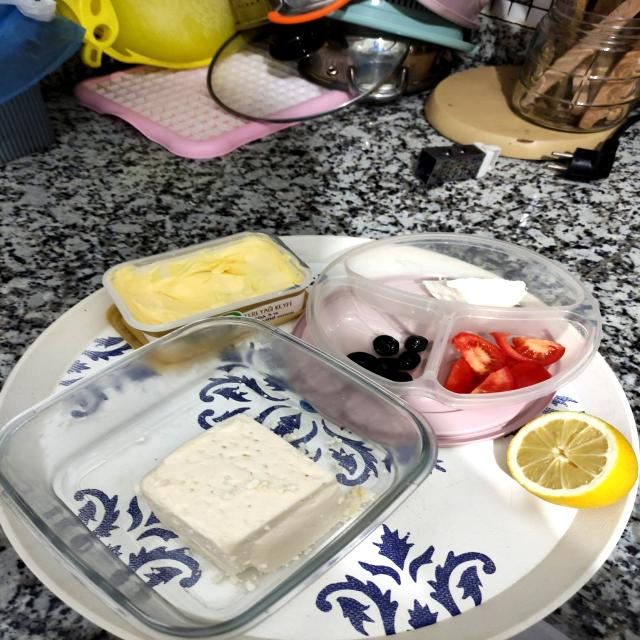cheese: (115, 403, 375, 583), (414, 260, 541, 312)
lemon: (495, 410, 640, 511)
olive: (322, 307, 441, 391)
tomato: (442, 319, 580, 400)
